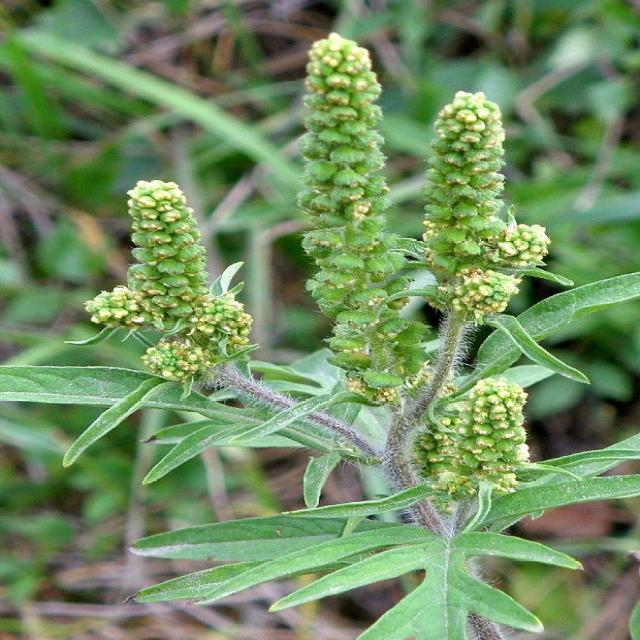ambrosia: (242, 28, 409, 382), (406, 63, 580, 384), (378, 343, 574, 549), (34, 160, 212, 386)
